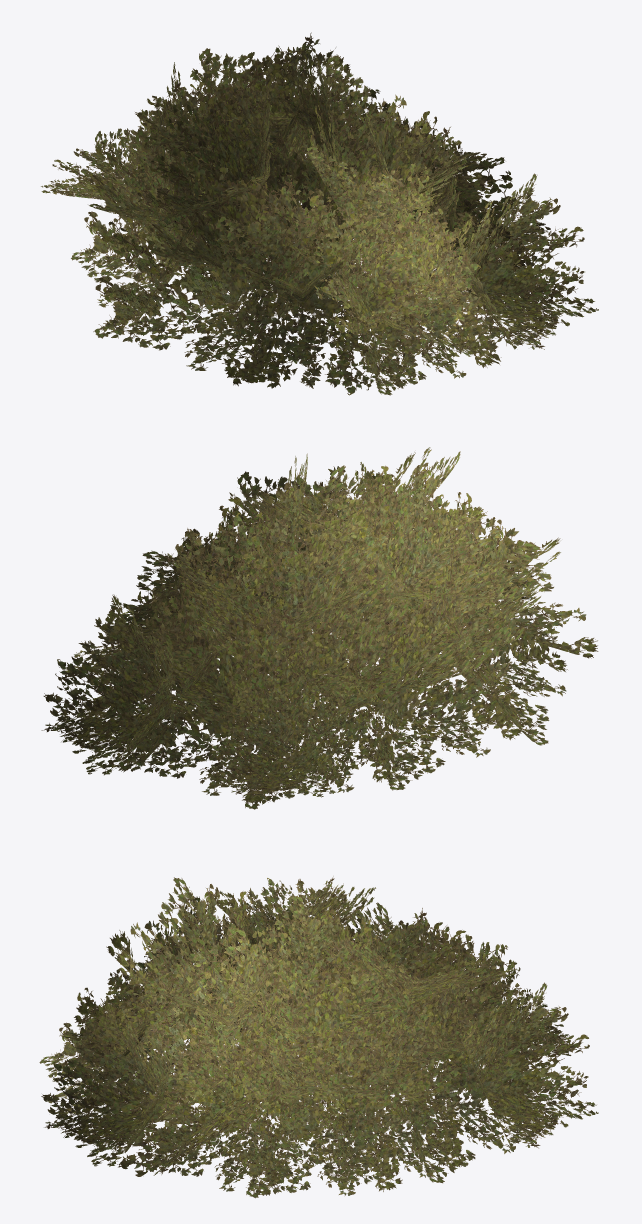
File: shrb_giantlickbush_ltgreen_l0.fbx
3 views of the same model, one above another, from view 1: azimuth 30°, elevation 25°; view 2: azimuth 150°, elevation 25°; view 3: azimuth 270°, elevation 25° (orthographic). The views are drawn at different scales.
Visible parts, largest first — view 1: mesh_node; view 2: mesh_node; view 3: mesh_node.
Boxes of the visible parts, x1,y1,x2,y2 form: mesh_node: (41, 32, 598, 395); mesh_node: (41, 447, 598, 809); mesh_node: (39, 876, 598, 1198).
Size of the model in its own units: 6.04 by 3.39 by 7.16.
